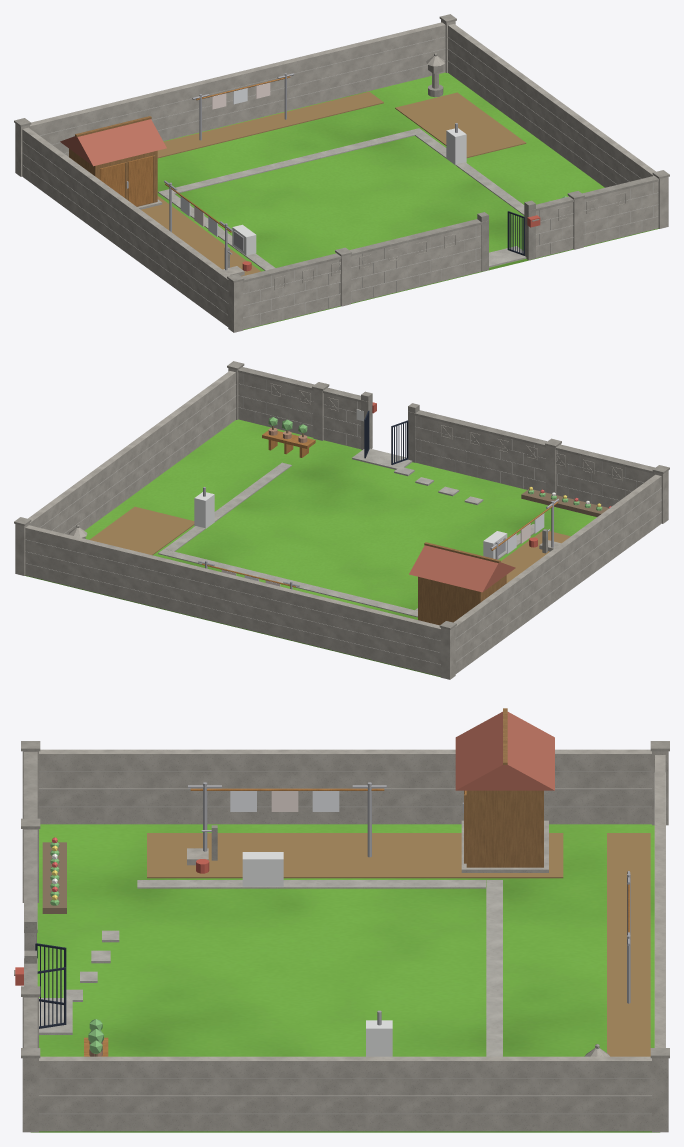
Rendered from env.glb.
3 views of the same model, one above another, from view 1: azimuth 30°, elevation 25°; view 2: azimuth 150°, elevation 25°; view 3: azimuth 270°, elevation 25° (orthographic). The views are drawn at different scales.
Visible parts, largest first — view 1: wall_front_left, yard, earth_west_run, joint_h_front_l_1, wall_coping_left, gate_apron, shed_roof, shed_door_0, shed_walls, ac_unit, shed_handle, gate_l_hinge_stile (+2 smaller); view 2: wall_front_left, yard, joint_h_front_l_1, wall_coping_left, gate_apron, earth_west_run, shed_roof, shed_walls, ac_unit, shed_door_0, flowerbed_soil, gate_l_hinge_stile (+1 smaller); view 3: yard, wall_front_left, earth_west_run, gate_apron, shed_roof, shed_walls, joint_h_front_l_1, wall_coping_left, ac_unit, shed_handle, flowerbed_soil, gate_l_hinge_stile (+3 smaller).
Part boxes in pixels (x1,y1,x2,y2): wall_front_left: [15, 19, 668, 332]; yard: [157, 72, 658, 330]; earth_west_run: [141, 91, 526, 276]; joint_h_front_l_1: [22, 36, 658, 325]; wall_coping_left: [14, 14, 669, 282]; gate_apron: [158, 128, 526, 270]; shed_roof: [60, 119, 166, 166]; shed_door_0: [100, 76, 290, 232]; shed_walls: [69, 116, 157, 206]; ac_unit: [232, 128, 466, 255]; shed_handle: [126, 73, 457, 270]; gate_l_hinge_stile: [507, 211, 524, 255]; wall_front_left: [15, 366, 668, 679]; yard: [25, 419, 596, 677]; joint_h_front_l_1: [25, 373, 661, 665]; wall_coping_left: [14, 361, 669, 629]; gate_apron: [158, 448, 534, 617]; earth_west_run: [89, 506, 570, 582]; shed_roof: [409, 545, 515, 592]; shed_walls: [418, 542, 506, 625]; ac_unit: [194, 492, 507, 558]; shed_door_0: [202, 430, 558, 587]; flowerbed_soil: [521, 489, 608, 516]; gate_l_hinge_stile: [364, 411, 408, 464]; yard: [31, 824, 659, 1132]; wall_front_left: [22, 749, 668, 1132]; earth_west_run: [147, 833, 650, 1056]; gate_apron: [39, 880, 502, 1056]; shed_roof: [455, 711, 554, 790]; shed_walls: [464, 708, 543, 867]; joint_h_front_l_1: [39, 771, 665, 1114]; wall_coping_left: [14, 741, 669, 1058]; ac_unit: [242, 852, 392, 1056]; shed_handle: [188, 782, 630, 1025]; flowerbed_soil: [42, 842, 66, 913]; gate_l_hinge_stile: [35, 943, 66, 1028].
Size of the model in its own units: 15.38 by 2.68 by 13.55.
Materials: 23 (6 with a texture image).
